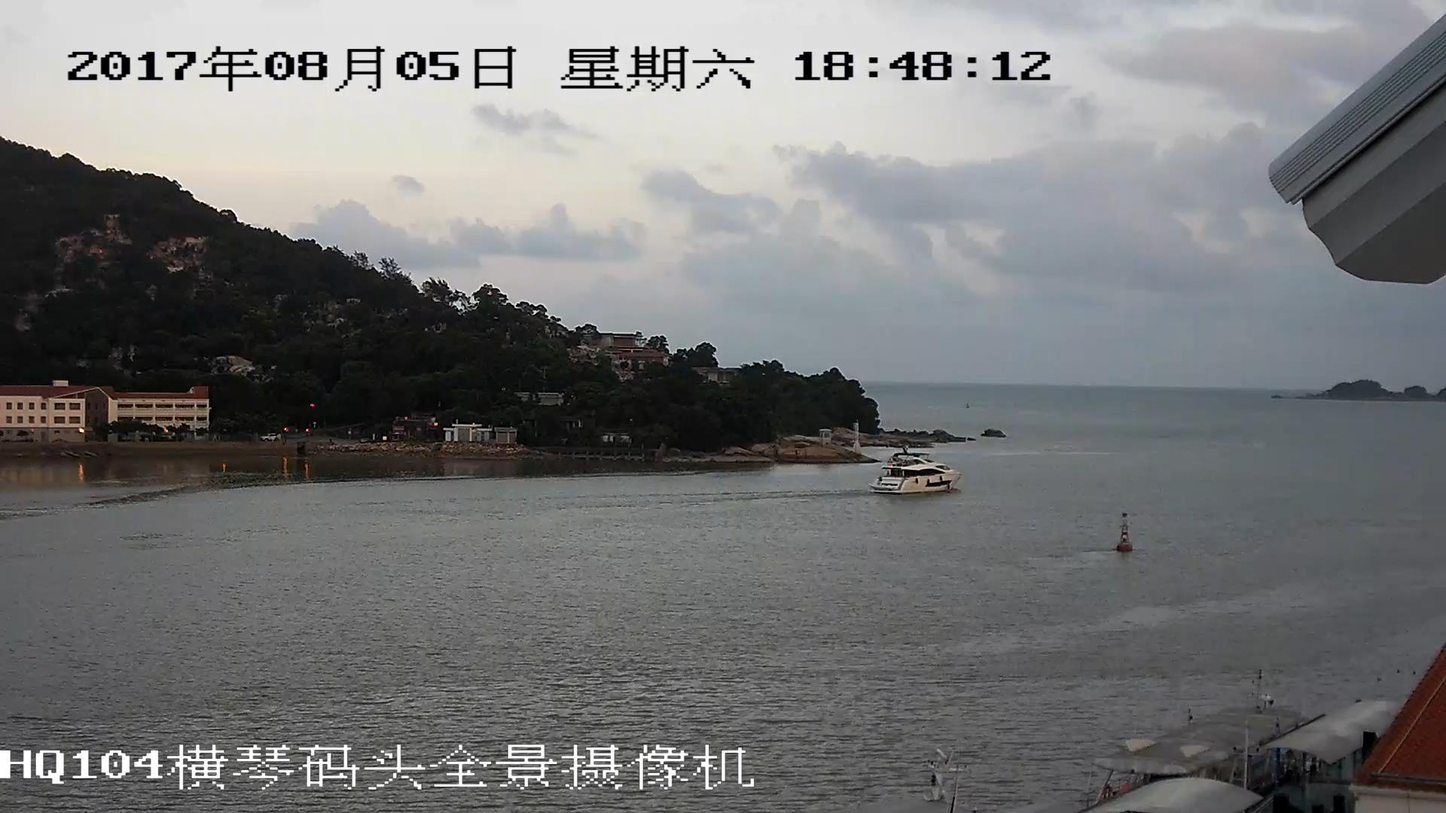passenger ship: (876, 452, 958, 495)
